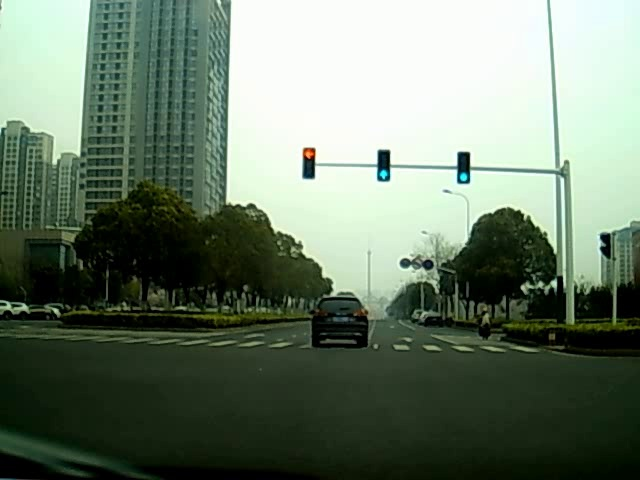Traffic_Light_go: (457, 152, 470, 183), (377, 151, 389, 181)
Traffic_Light_stop: (303, 147, 314, 177)
